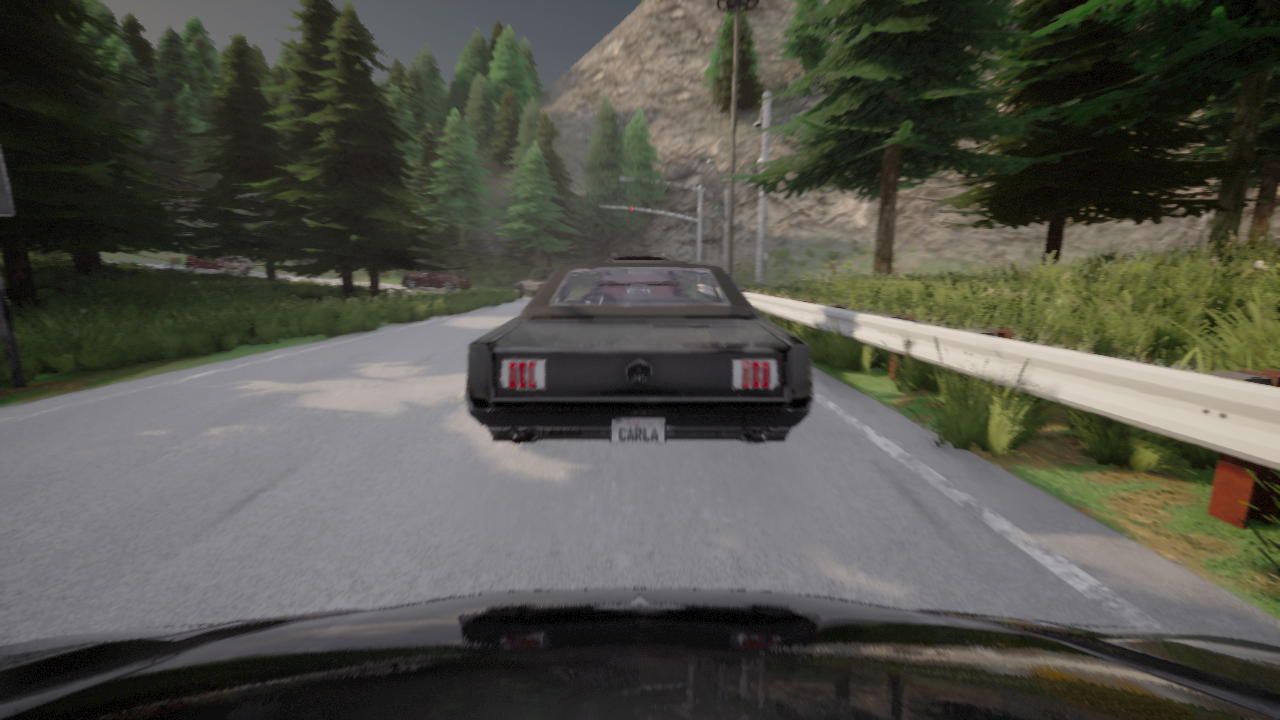cyclist: (0, 588, 1279, 719), (465, 261, 813, 444), (402, 266, 471, 292), (186, 253, 250, 275), (511, 267, 554, 297), (607, 252, 670, 261), (237, 255, 255, 270)
